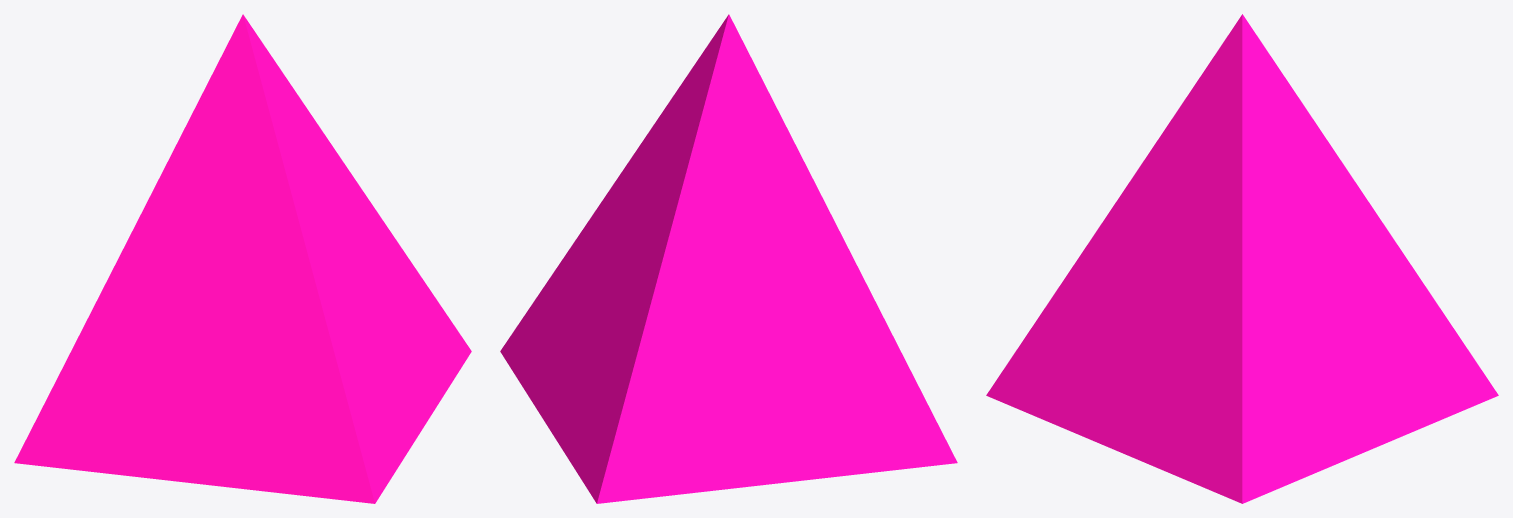
File: BasePyramid.007.glb
3 views of the same model, side by side, from view 1: azimuth 30°, elevation 25°; view 2: azimuth 150°, elevation 25°; view 3: azimuth 270°, elevation 25° (orthographic). The views are drawn at different scales.
Parts seen in each view (by area): view 1: BasePyramid.007; view 2: BasePyramid.007; view 3: BasePyramid.007.
Boxes of the visible parts, x1,y1,x2,y2 form: BasePyramid.007: (14,14,471,503); BasePyramid.007: (500,14,957,503); BasePyramid.007: (986,14,1498,503).
Size of what is drawn, in the model's own units: 0.9142 by 0.7506 by 0.9142.
1 material, 1 textured.
